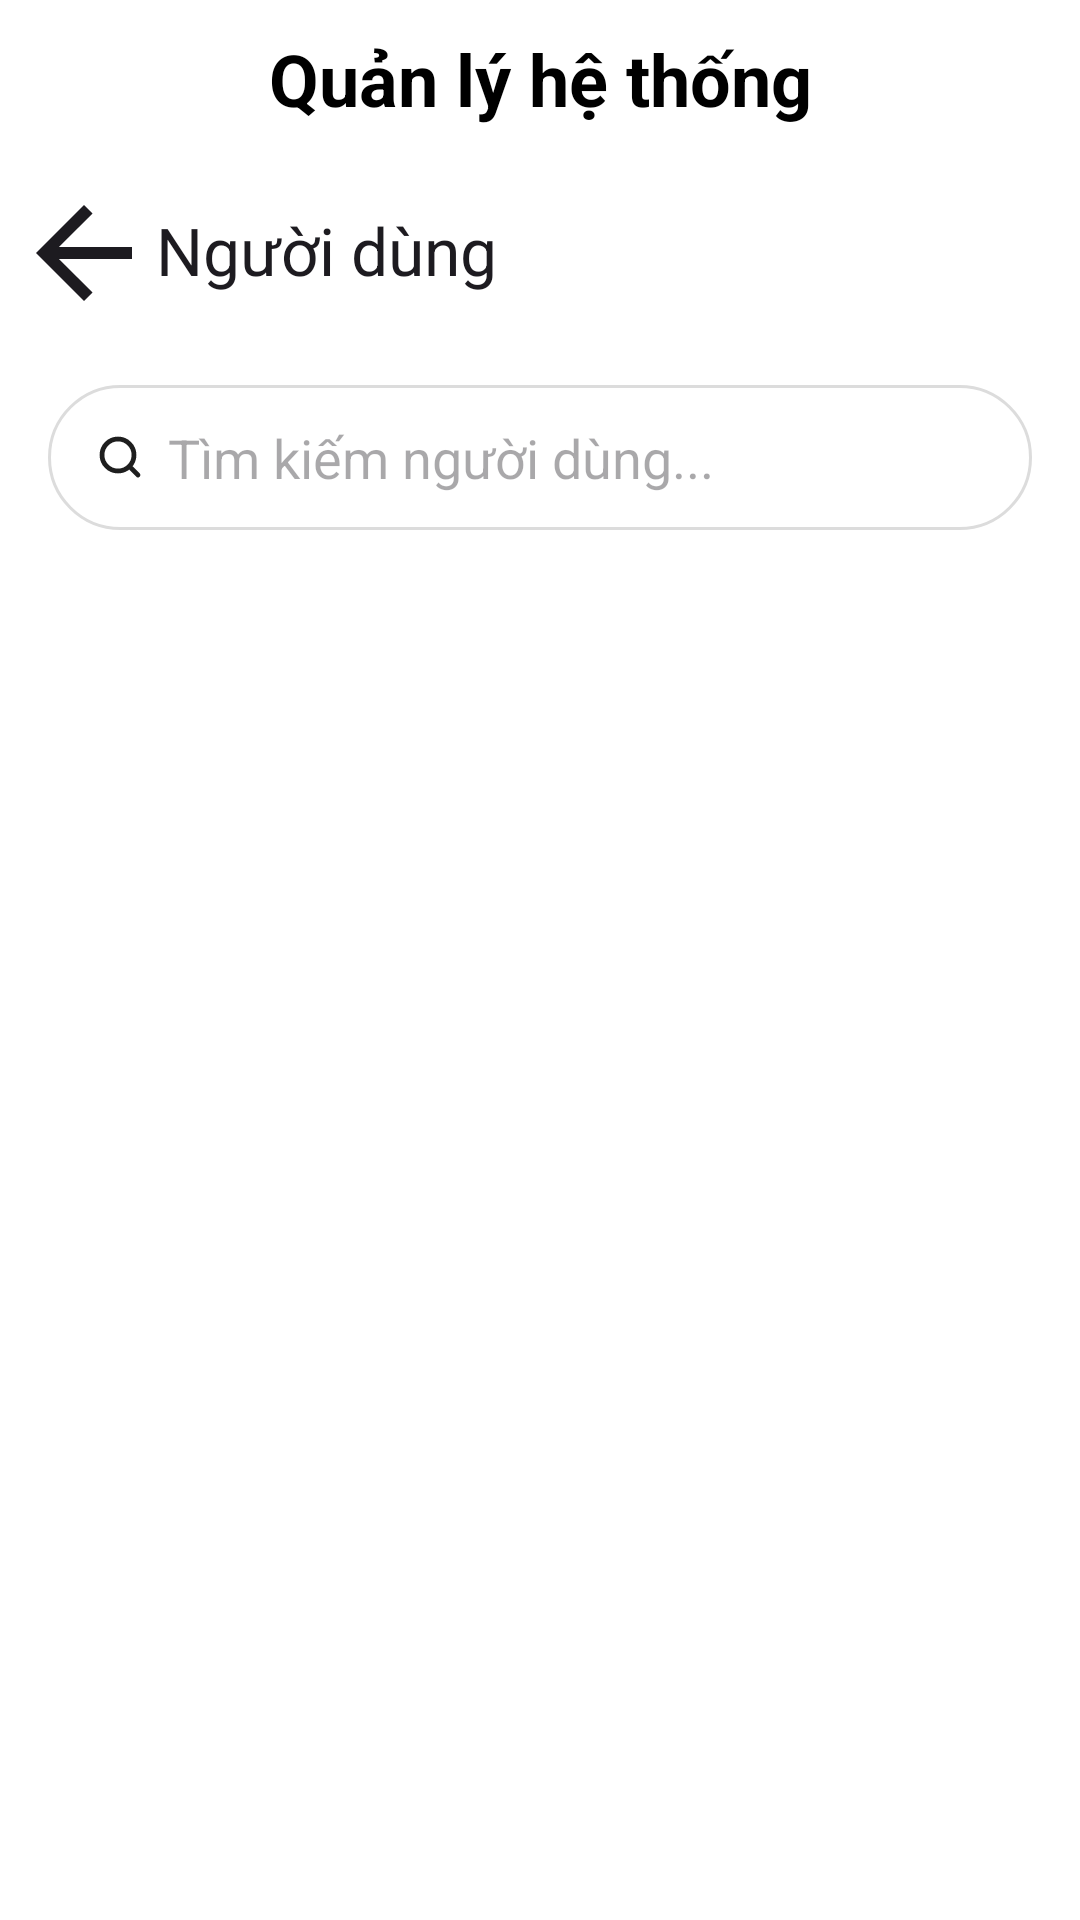

Icons on this 1080 × 1920 Android screen, each with its box as [left=x1, top=y1, right=x2, bottom=y2]:
arrow back left: [left=36, top=205, right=132, bottom=301]
